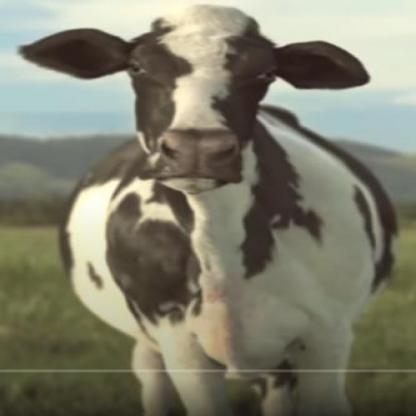cow: (19, 4, 395, 416)
